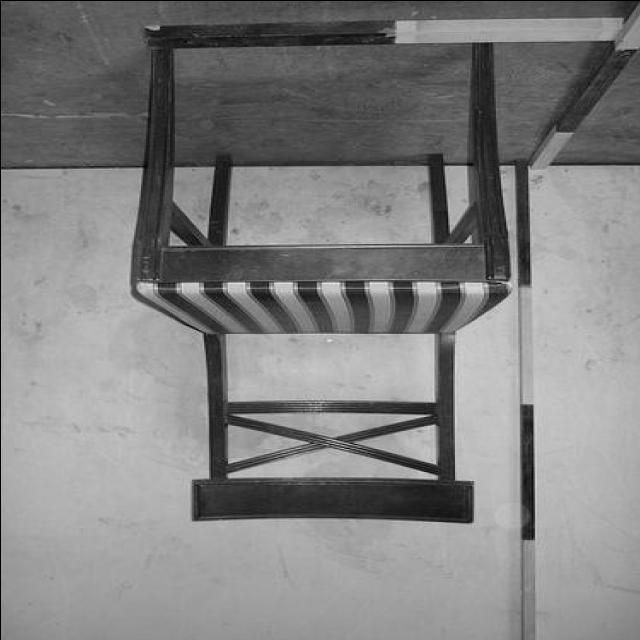chair: (126, 38, 514, 524)
